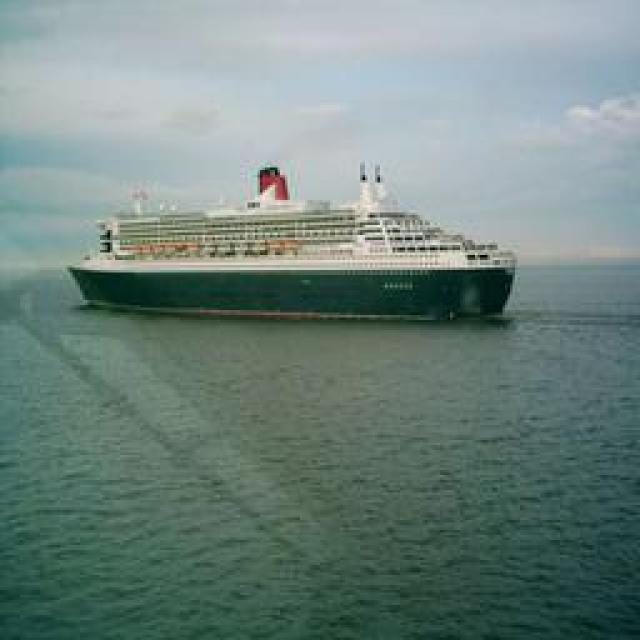CIV_Ship: (64, 165, 516, 320)
